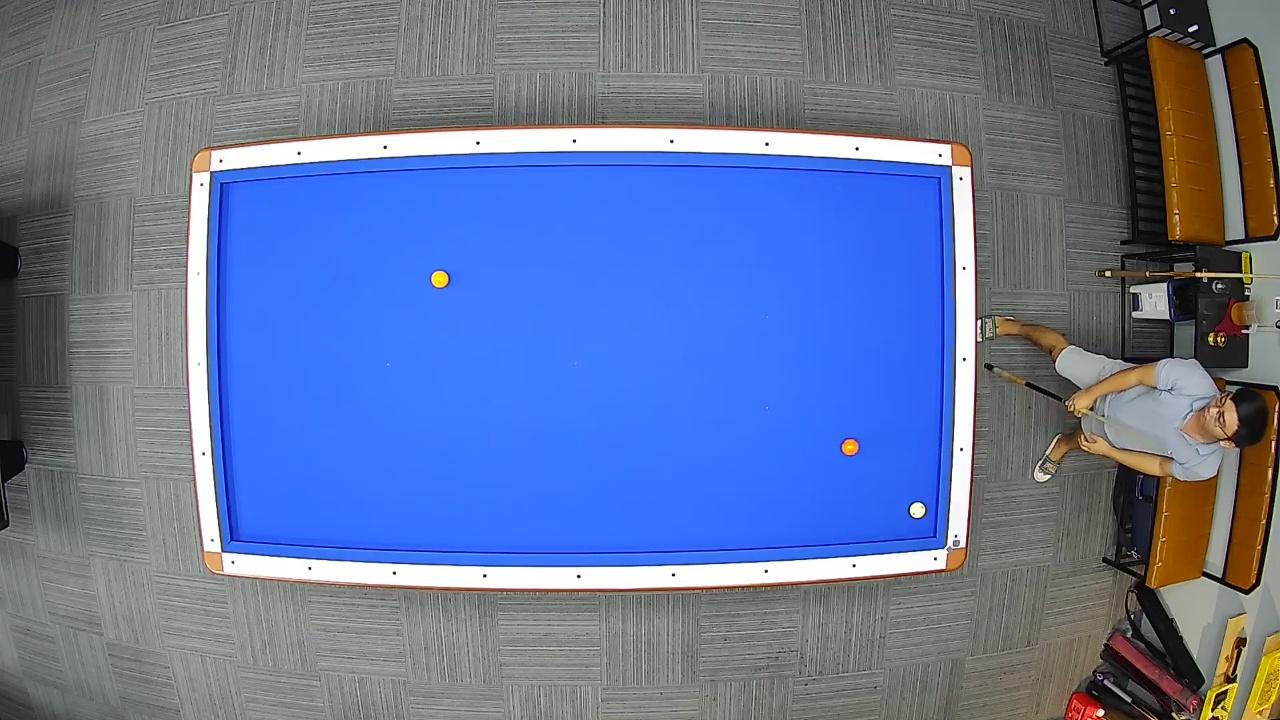Orange: (840, 436, 861, 458)
White: (908, 500, 929, 522)
Yellow: (430, 268, 450, 290)
